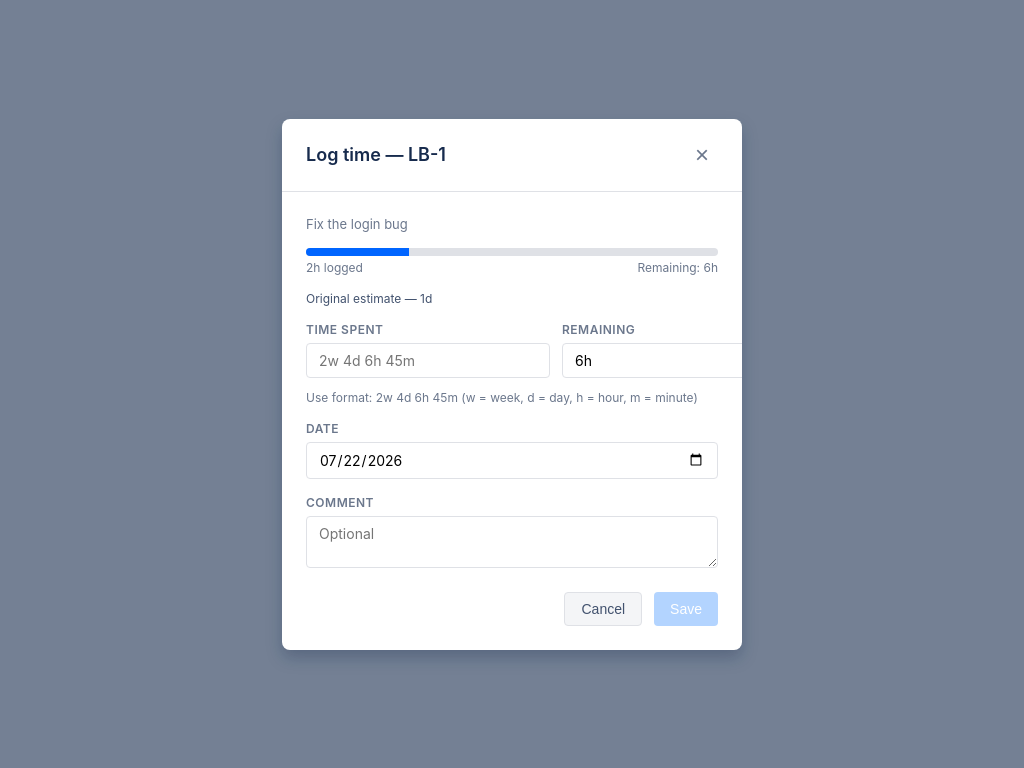
Test case: LogTimeModal › auto-decrements Remaining as Time spent is typed (Jira auto mode)
The width and height of the screenshot is (1024, 768).
Expected: the field labelled "Remaining" holds "6h", [562, 342, 742, 378]
// Enter 2h spent → remaining auto-drops to 4h
Type "2h" into the field labelled "Time spent" at (428, 360), box [306, 342, 550, 378]
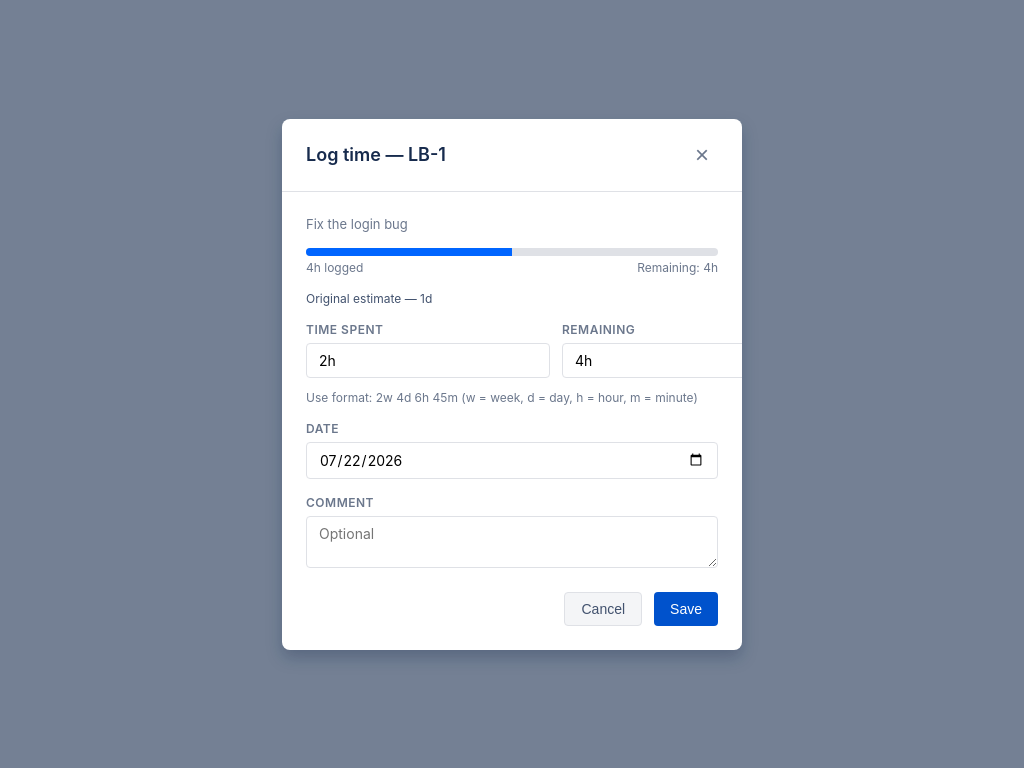
Result: the field labelled "Remaining" holds "4h" at [562, 342, 742, 378]
// Overshoot: 8h spent against 6h remaining → clamps at 0m and bar fills
Replace the text in the field labelled "Time spent" with "8h" at (428, 360), box [306, 342, 550, 378]
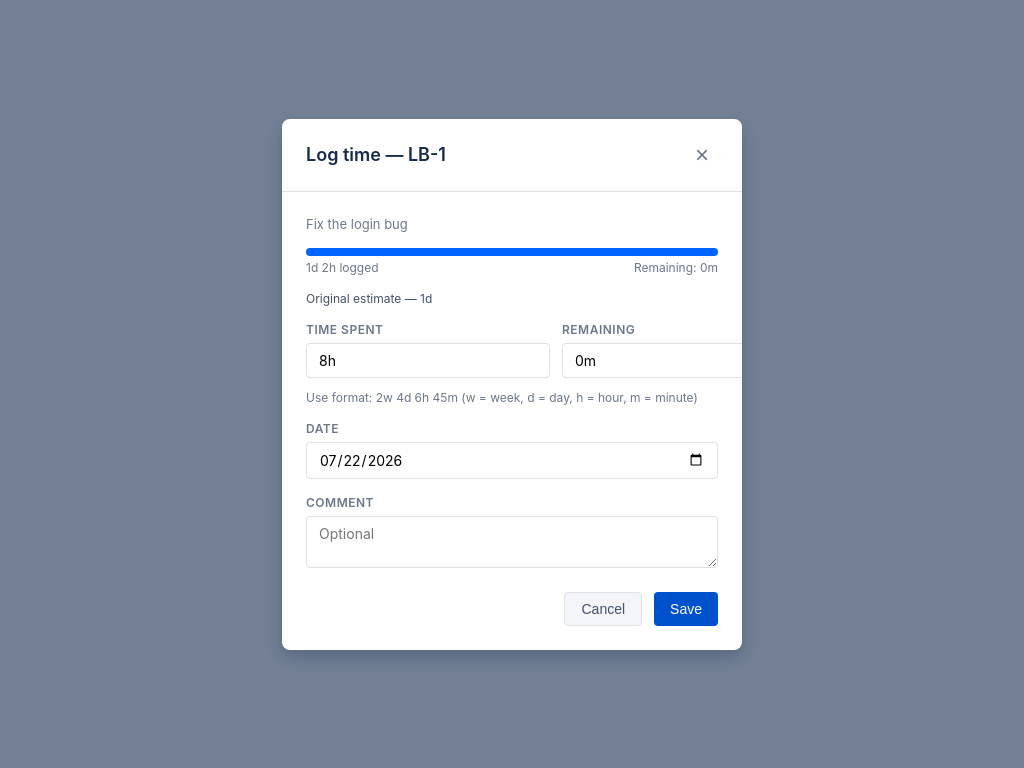
Result: the field labelled "Remaining" holds "0m" at [562, 342, 742, 378]
Result: the text "Remaining: 0m" is shown at [634, 260, 718, 274]
// Clearing / invalid Time spent reverts Remaining to the current estimate
Clear the field labelled "Time spent" at (428, 360), box [306, 342, 550, 378]
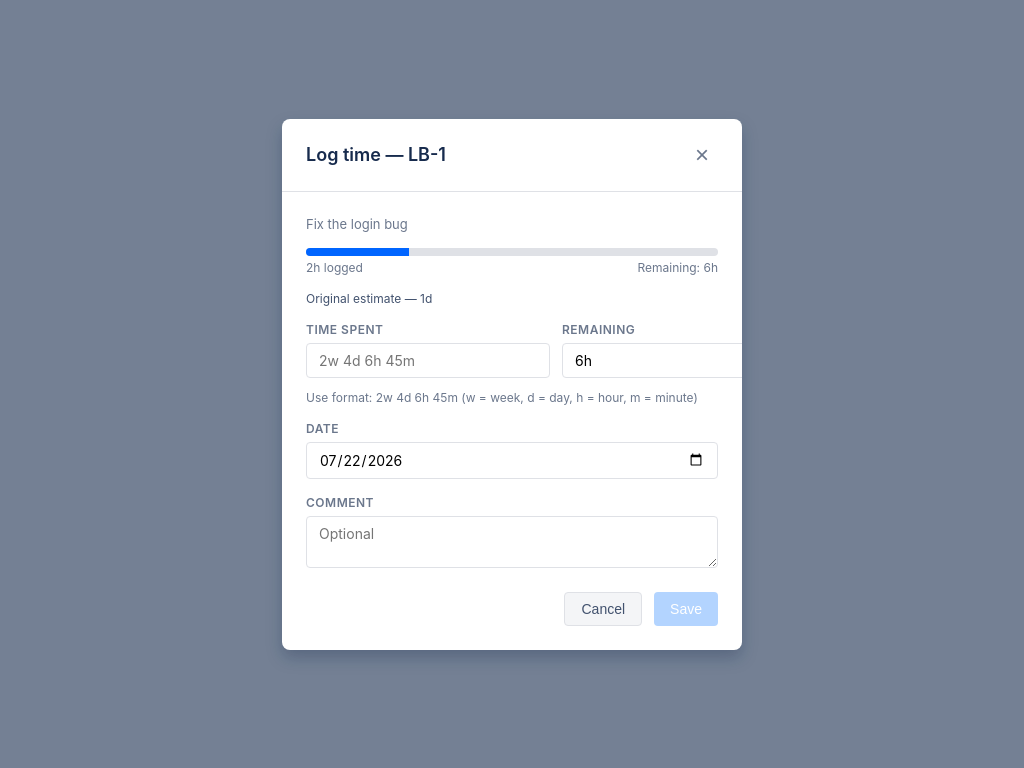
Result: the field labelled "Remaining" holds "6h" at [562, 342, 742, 378]
